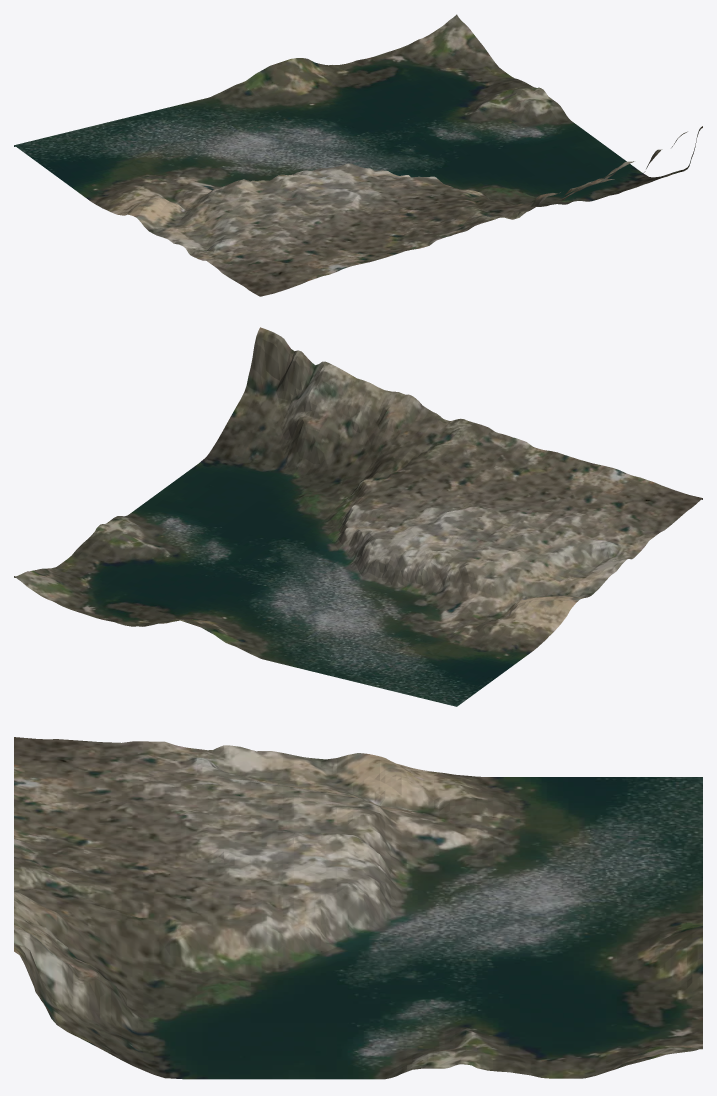
3 views of the same model, one above another, from view 1: azimuth 30°, elevation 25°; view 2: azimuth 150°, elevation 25°; view 3: azimuth 270°, elevation 25° (orthographic). The views are drawn at different scales.
Bounding box in the file's own units: 250 × 50.34 × 241.
1 material, 1 textured.
